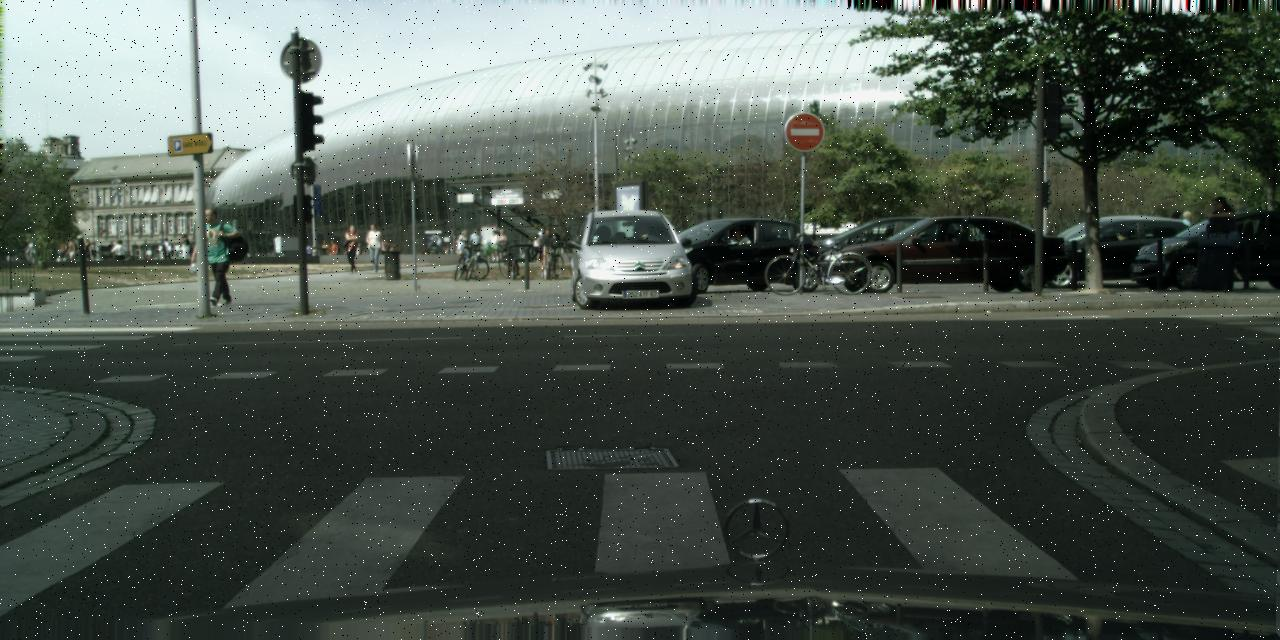ped: (196, 208, 235, 304), (1204, 196, 1242, 290), (1162, 210, 1186, 266), (1176, 210, 1199, 267), (364, 223, 384, 273), (342, 224, 362, 273), (468, 228, 482, 262), (179, 234, 191, 267), (456, 229, 468, 262), (495, 229, 507, 261), (533, 230, 545, 260), (114, 238, 125, 268), (532, 233, 543, 262), (82, 236, 92, 264), (319, 239, 328, 263), (65, 240, 74, 262), (329, 240, 337, 262), (59, 242, 67, 262), (355, 242, 363, 262), (382, 240, 397, 250), (381, 252, 381, 254)
